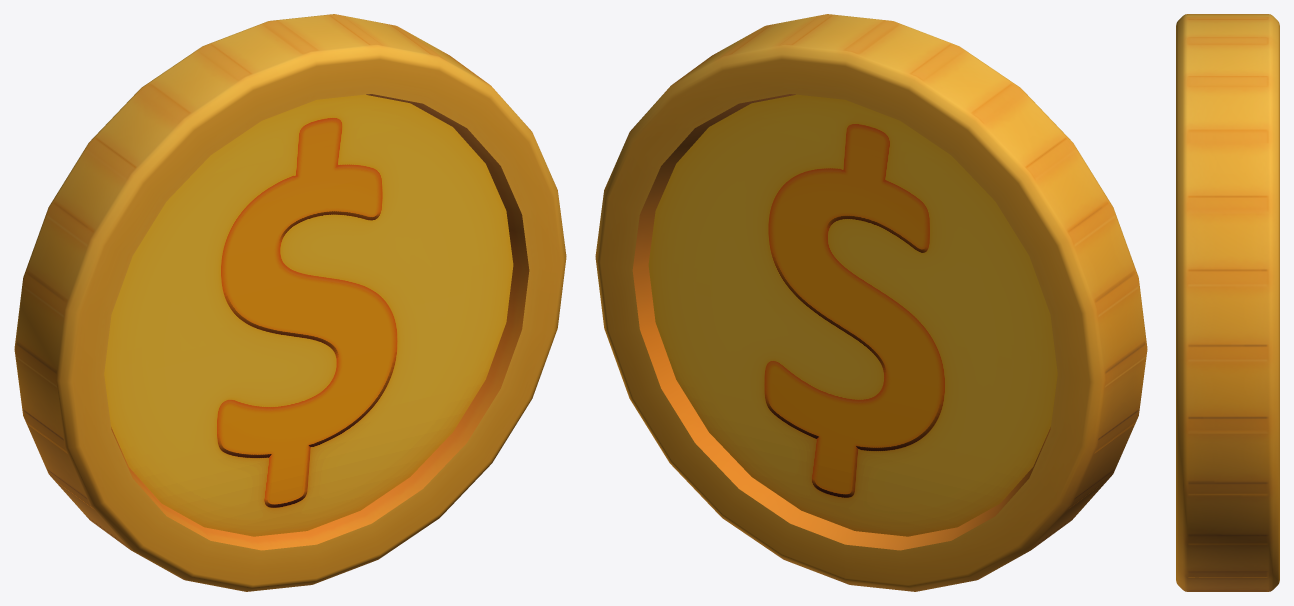
Rendered from SignCoin01_2.FBX.
3 views of the same model, side by side, from view 1: azimuth 30°, elevation 25°; view 2: azimuth 150°, elevation 25°; view 3: azimuth 270°, elevation 25° (orthographic).
Visible parts, largest first — view 1: SignCoin01_2; view 2: SignCoin01_2; view 3: SignCoin01_2.
Part boxes in pixels (<box>): SignCoin01_2: <box>14,14,566,591</box>; SignCoin01_2: <box>595,14,1147,591</box>; SignCoin01_2: <box>1176,14,1279,591</box>.
Size of what is drawn, in the model's own units: 4.02 by 4.02 by 0.7188.
